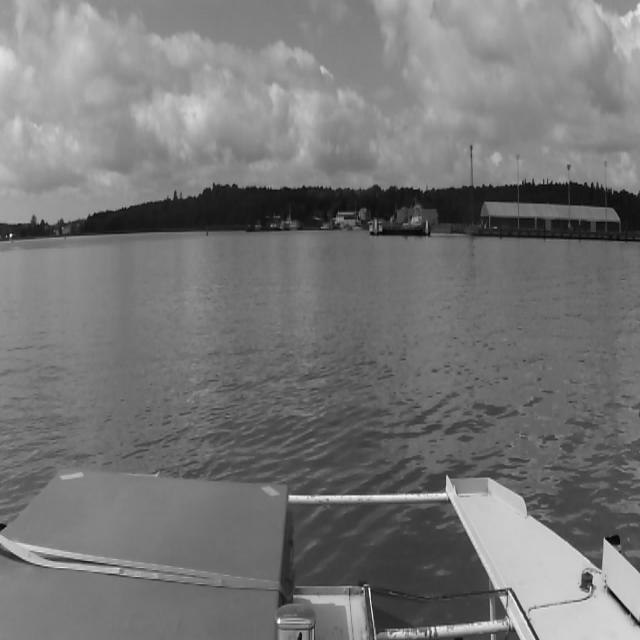buoy: (206, 228, 208, 235), (64, 235, 66, 240)
ship: (282, 200, 305, 234), (255, 219, 263, 230)
